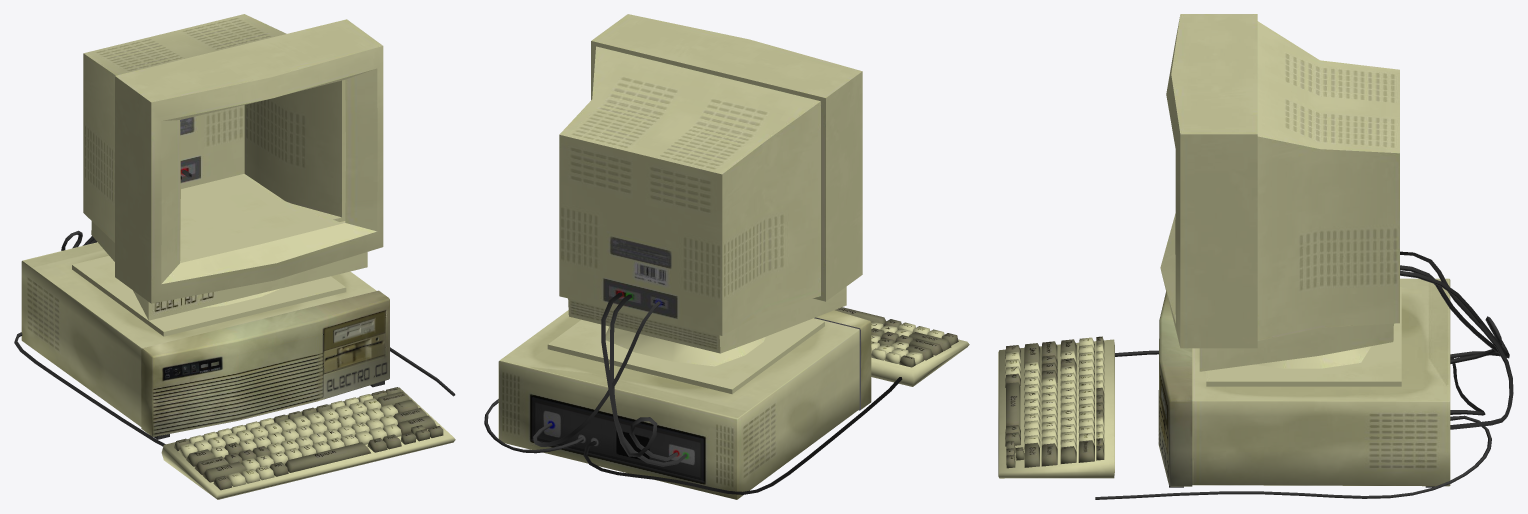
The model's file is office_pc.glb.
3 renders of one model, left to right at view 1: azimuth 30°, elevation 25°; view 2: azimuth 150°, elevation 25°; view 3: azimuth 270°, elevation 25°, orthographic. The views are drawn at different scales.
Parts seen in each view (by area): view 1: CRT Housing, PC_004.005, Keyboard, PC_004.007, NurbsPath.014; view 2: CRT Housing, PC_004.007, Keyboard, NurbsPath.020, PC_004.005, NurbsPath.014, NurbsPath.021, NurbsPath.016; view 3: CRT Housing, PC_004.007, Keyboard, PC_004.005, NurbsPath.020, NurbsPath.016, NurbsPath.021, NurbsPath.014.
Part boxes in pixels (bbox=[...]): CRT Housing: bbox=[72, 14, 383, 336]; PC_004.005: bbox=[141, 290, 389, 436]; Keyboard: bbox=[161, 387, 455, 499]; PC_004.007: bbox=[21, 242, 384, 439]; NurbsPath.014: bbox=[14, 332, 165, 446]; CRT Housing: bbox=[547, 14, 862, 393]; PC_004.007: bbox=[498, 310, 859, 499]; Keyboard: bbox=[835, 307, 969, 386]; NurbsPath.020: bbox=[601, 292, 687, 466]; PC_004.005: bbox=[814, 310, 871, 410]; NurbsPath.014: bbox=[583, 377, 902, 494]; NurbsPath.021: bbox=[533, 301, 660, 446]; NurbsPath.016: bbox=[484, 399, 583, 453]; CRT Housing: bbox=[1160, 14, 1401, 386]; PC_004.007: bbox=[1169, 278, 1450, 487]; Keyboard: bbox=[998, 336, 1114, 478]; PC_004.005: bbox=[1158, 291, 1192, 486]; NurbsPath.020: bbox=[1400, 265, 1509, 363]; NurbsPath.016: bbox=[1095, 415, 1491, 499]; NurbsPath.021: bbox=[1400, 251, 1513, 429]; NurbsPath.014: bbox=[1115, 350, 1485, 415].
Bounding box in the file's own units: 0.5193 × 0.5672 × 0.7459.
5 materials, 4 textured.
